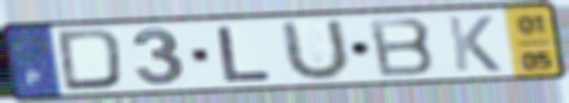3: (130, 25, 187, 89)
B: (365, 15, 439, 80)
D: (54, 26, 126, 93)
K: (443, 14, 504, 74)
L: (214, 24, 275, 84)
U: (280, 16, 353, 84)
